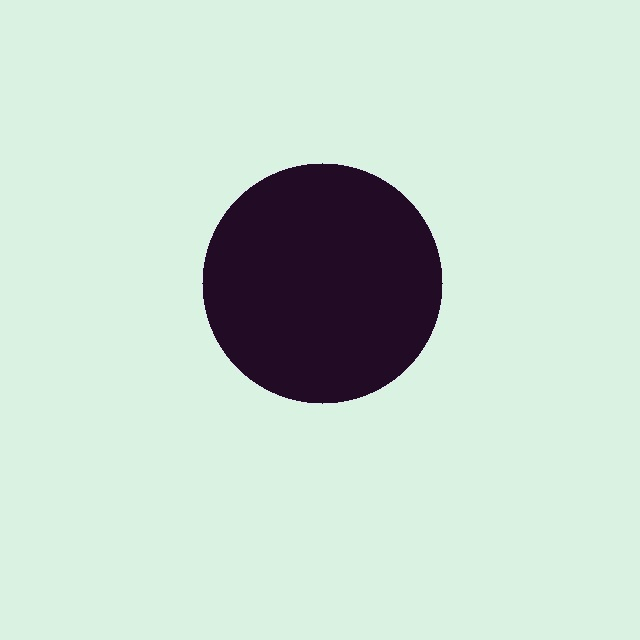circle: (201, 163, 443, 404)
